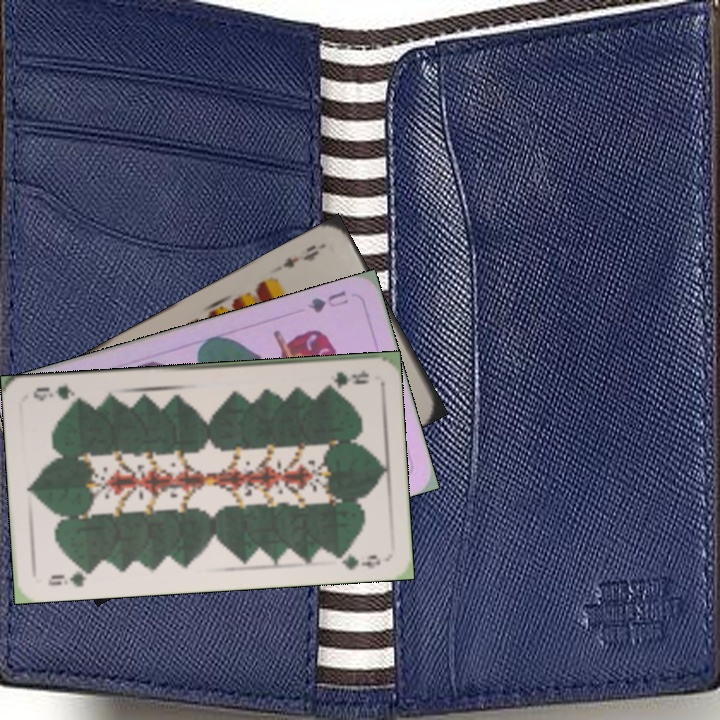E9: (279, 240, 327, 271)
G9: (44, 563, 97, 590), (329, 366, 371, 389)
GU: (303, 286, 351, 315)
